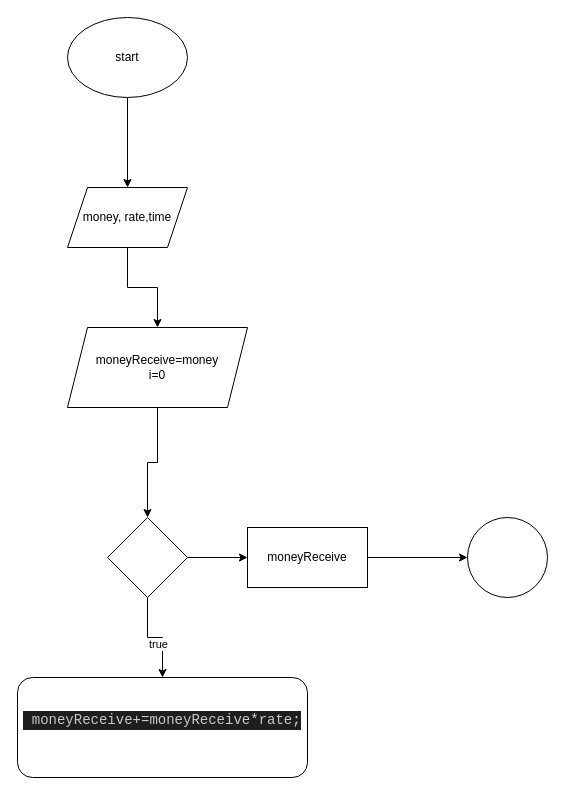
Some shapes in this 565 by 795 pixel diagram are drawn without their labels. Each missing label, with the centre of its shape:
"end" goes at point (507, 557).
"i<time" goes at point (147, 557).
